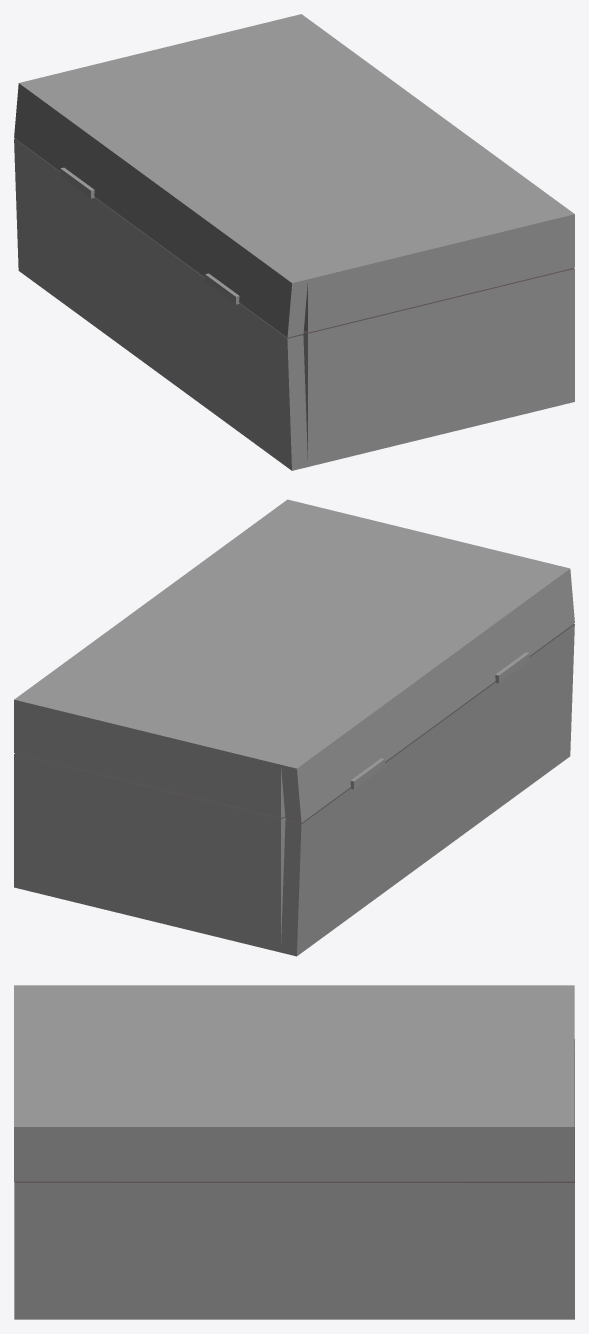
The model's file is Med_Kit.fbx.
3 views of the same model, one above another, from view 1: azimuth 30°, elevation 25°; view 2: azimuth 150°, elevation 25°; view 3: azimuth 270°, elevation 25° (orthographic). The views are drawn at different scales.
Parts seen in each view (by area): view 1: MediKit_closed; view 2: MediKit_closed; view 3: MediKit_closed.
Part boxes in pixels (x1,y1,x2,y2): MediKit_closed: (14, 14, 574, 470); MediKit_closed: (14, 499, 574, 956); MediKit_closed: (14, 985, 574, 1319).
Size of the model in its own units: 2.05 by 1.27 by 3.35.
